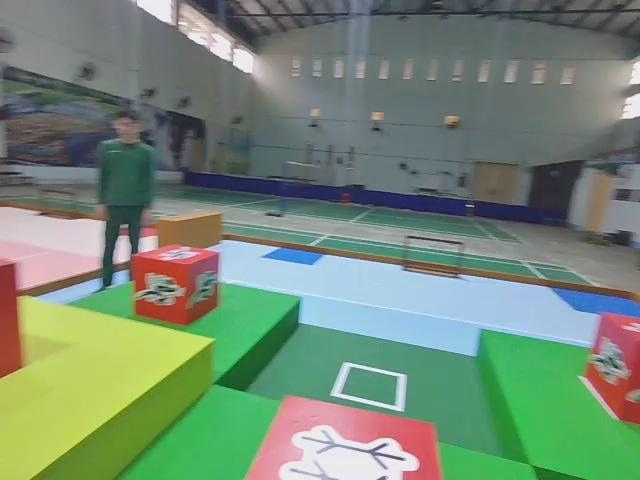R1: (132, 240, 221, 327), (583, 309, 640, 428)
R2 Real: (240, 392, 443, 480)
